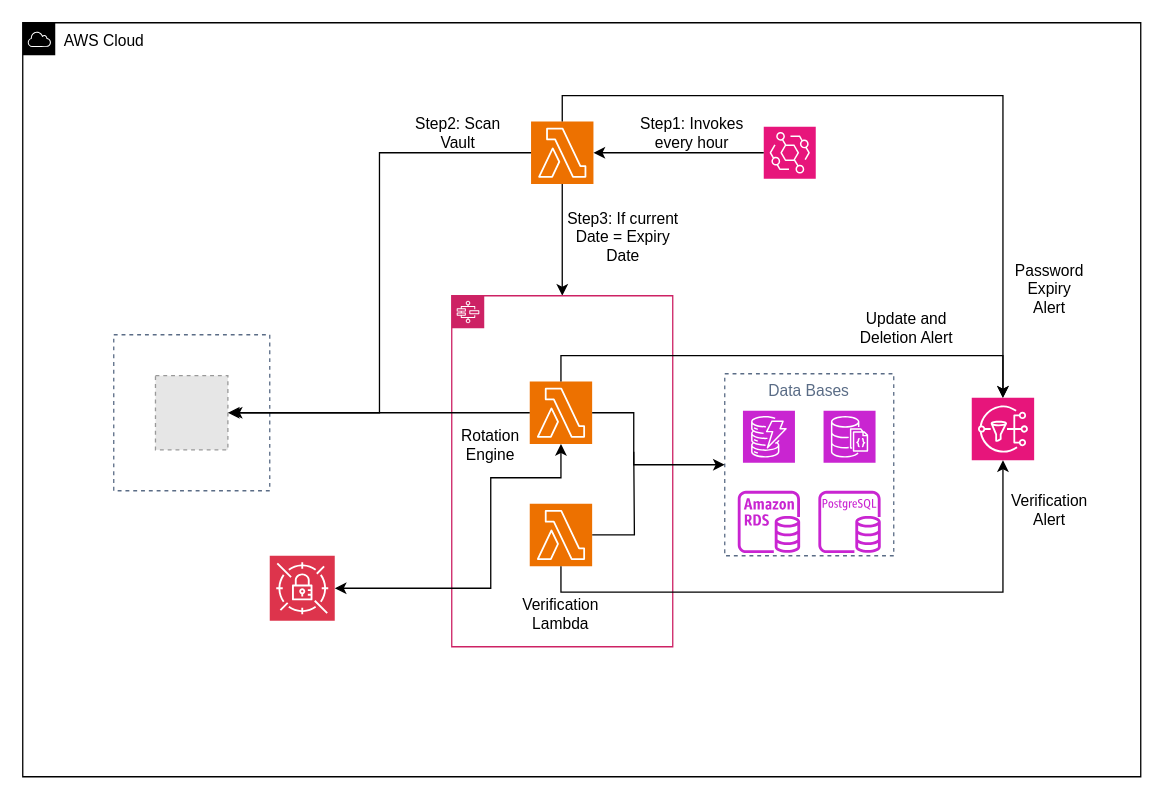
The diagram is 1164 pixels wide and 800 high, and some of its shapes have lost their labels. Grey dashed boxes stand in for pictures. The shapes that lost their labels are listed below. From the top down, each one's box as (x1, y1, x2, y2) in pixels, then its label:
(112, 333, 270, 491): EKS
(450, 294, 673, 647): AWS Step Functions workflow
